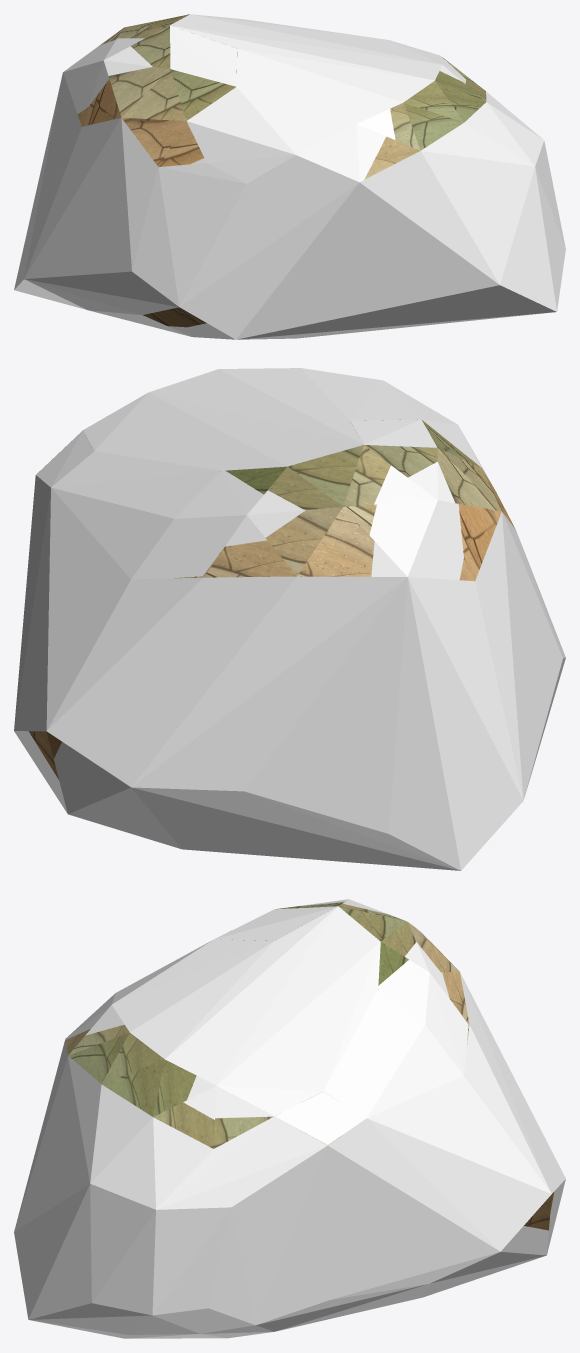
File: rock_boulder.glb
3 renders of one model, top to bottom at view 1: azimuth 30°, elevation 25°; view 2: azimuth 150°, elevation 25°; view 3: azimuth 270°, elevation 25°, orthographic. The views are drawn at different scales.
Visible parts, largest first — view 1: col_rock_boulder, RockBoulder; view 2: col_rock_boulder, RockBoulder; view 3: col_rock_boulder, RockBoulder.
Boxes of the visible parts, x1=… form: col_rock_boulder: x1=14, y1=14, x2=565, y2=339; RockBoulder: x1=77, y1=14, x2=486, y2=327; col_rock_boulder: x1=14, y1=368, x2=565, y2=870; RockBoulder: x1=29, y1=368, x2=515, y2=791; col_rock_boulder: x1=14, y1=899, x2=565, y2=1338; RockBoulder: x1=65, y1=902, x2=554, y2=1230.
Bounding box in the file's own units: 4.24 × 2.53 × 4.1.
Materials: 2 (1 with a texture image).
